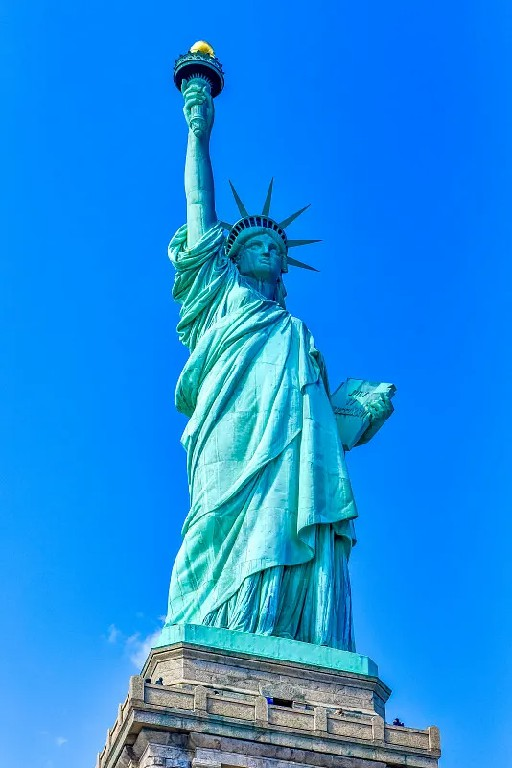SL: (96, 39, 443, 768)
